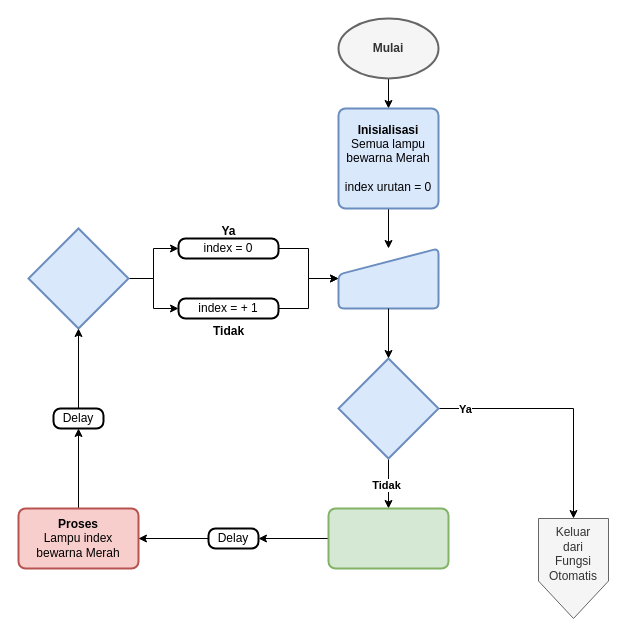
The diagram is 626 pixels wide and 636 high, and some of its shapes have lost their labels. The shapes that lost their labels are listed below. From the top down, each one's centre as x and y in pixels, then its label:
the point at 78,278: Lampu Terakhir?
the point at 388,278: Input Tombol
the point at 388,408: Tombol Mode ditekan?
the point at 388,538: Proses Lampu index bewarna Hijau
